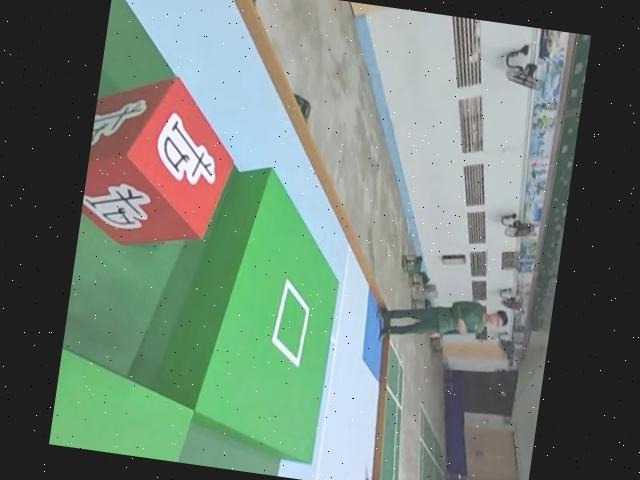R2 Real: (78, 67, 247, 259)
